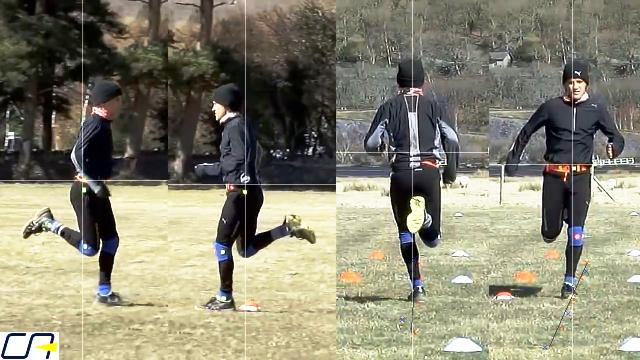berlari: (188, 81, 324, 315), (499, 59, 627, 305), (16, 73, 136, 315), (361, 54, 463, 302)
